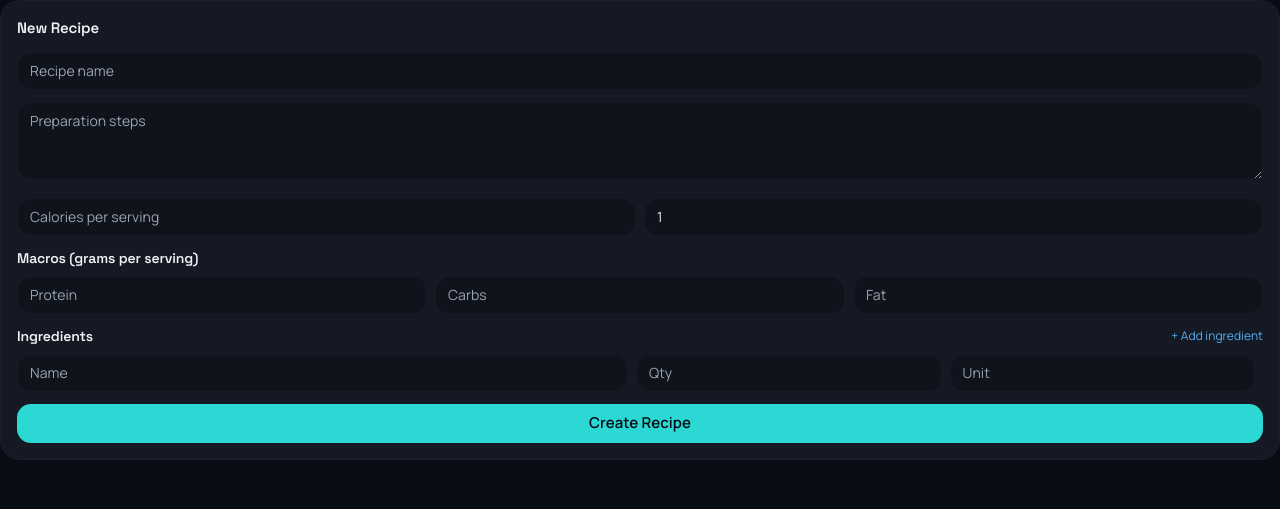
RecipeForm › shows error when name is empty
Type "Some steps" into the text box labelled "Preparation steps".
click(640, 140); type("Some steps")  # box [17,102,1263,180]
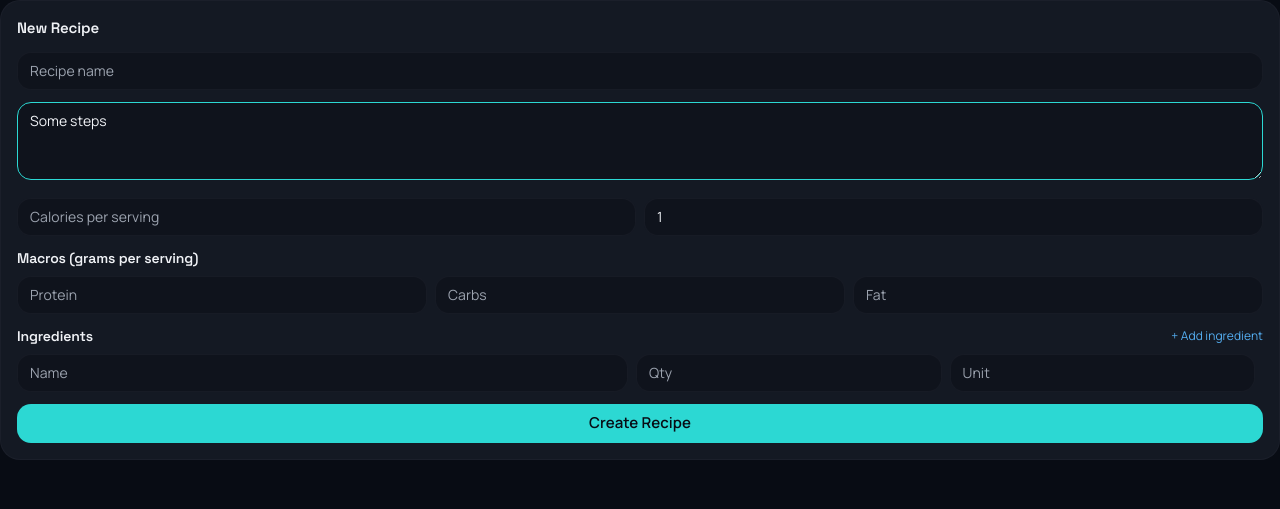
Type "100" into the number field labelled "Calories per serving".
click(326, 217); type("100")  # box [17,198,636,236]
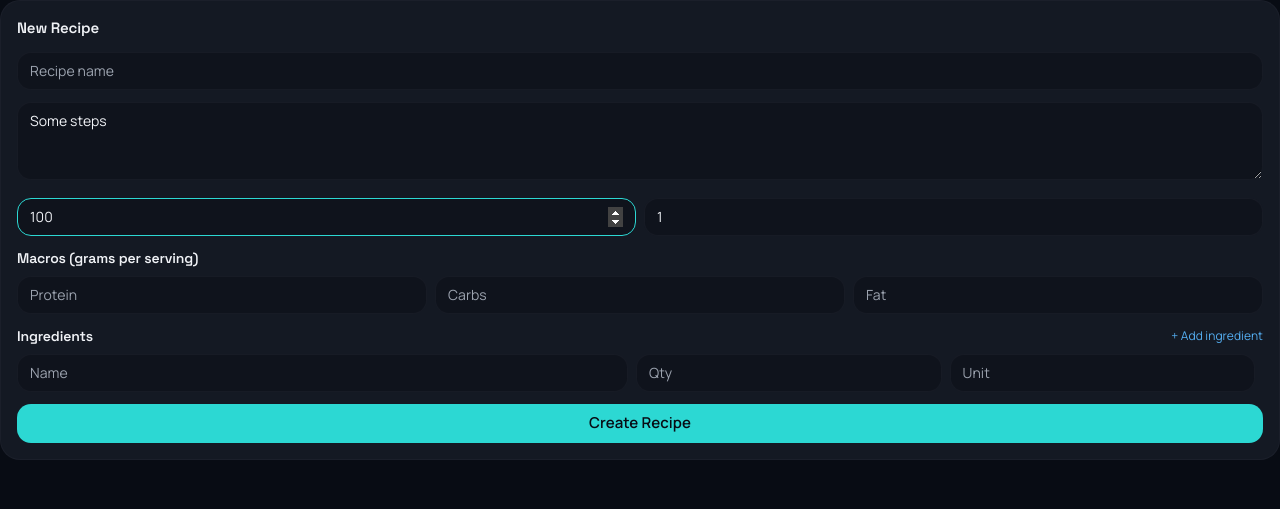
Click the button "Create Recipe".
click(640, 423)  # box [17,404,1263,442]
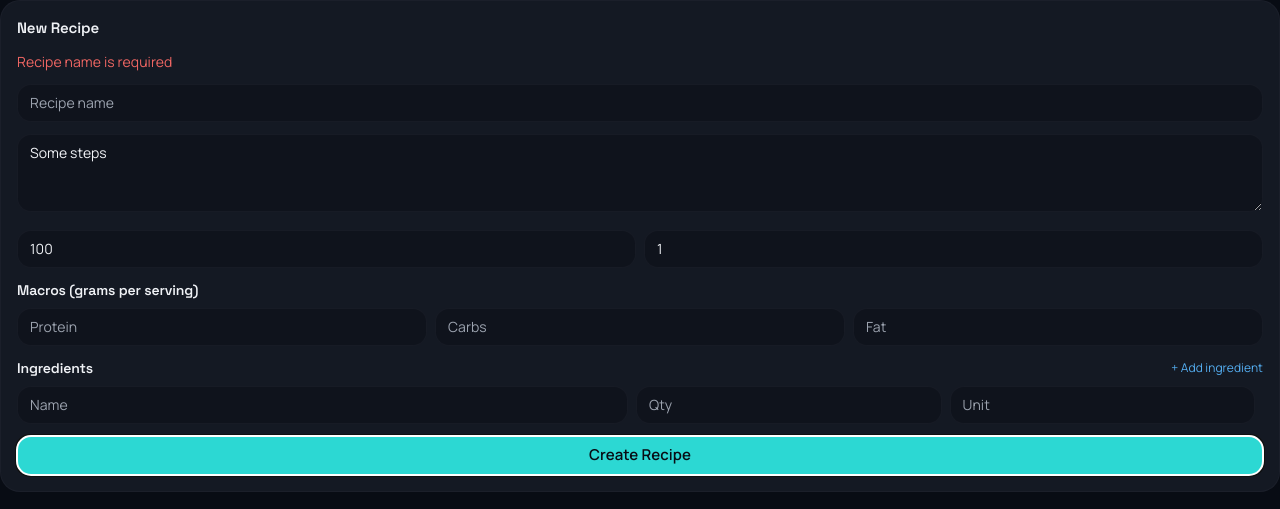
Expected: the text "Recipe name is required" is shown, [17,52,172,70]
